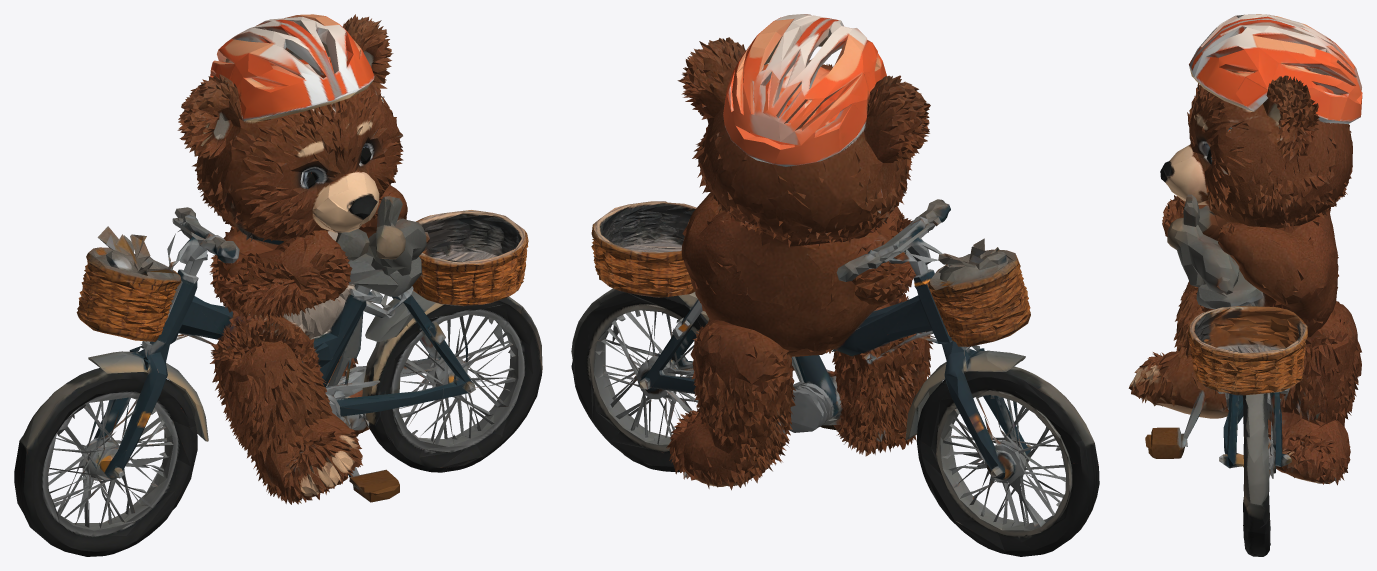
File: bear-and-pip-on-the-blue-bicycle-v1.glb
3 renders of one model, left to right at view 1: azimuth 30°, elevation 25°; view 2: azimuth 150°, elevation 25°; view 3: azimuth 270°, elevation 25°, orthographic. The views are drawn at different scales.
Bounding box in the file's own units: 1.9 × 1.68 × 0.7808.
Materials: 1 (1 with a texture image).
